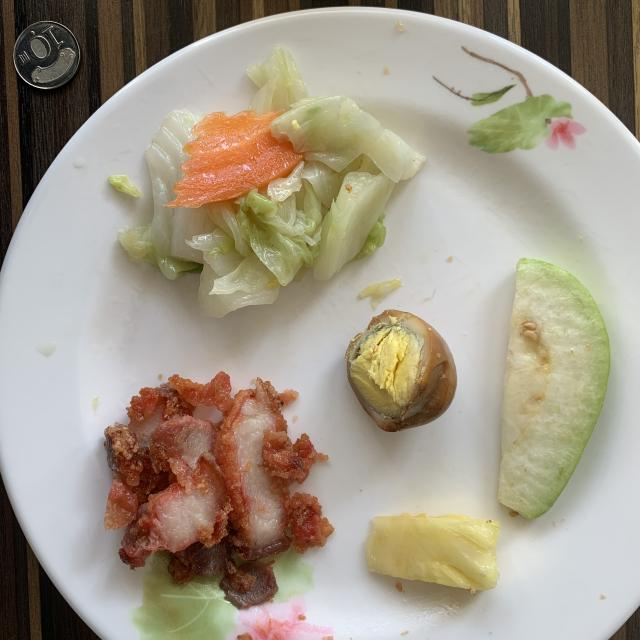cabbage: (118, 46, 425, 318)
coin: (12, 21, 80, 90)
guava -sliced-: (498, 259, 610, 519)
pineapple: (365, 514, 500, 590)
red grilled pork: (104, 372, 332, 609)
soy egg: (345, 310, 456, 431)
